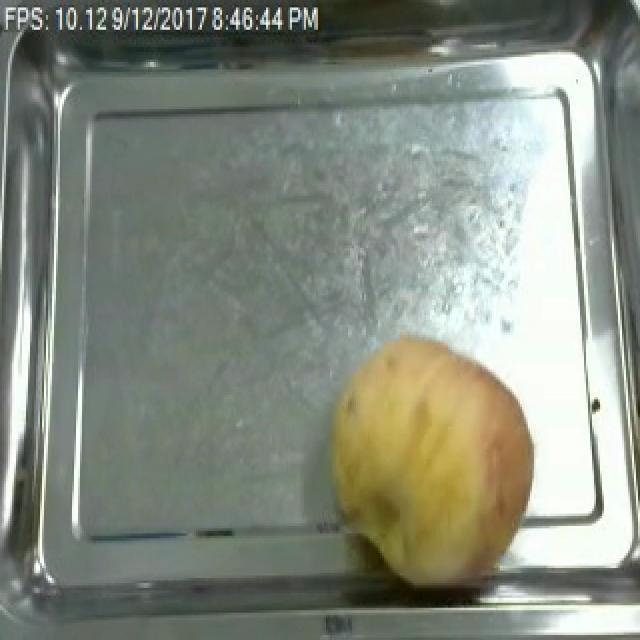Fruit: (312, 327, 546, 603)
